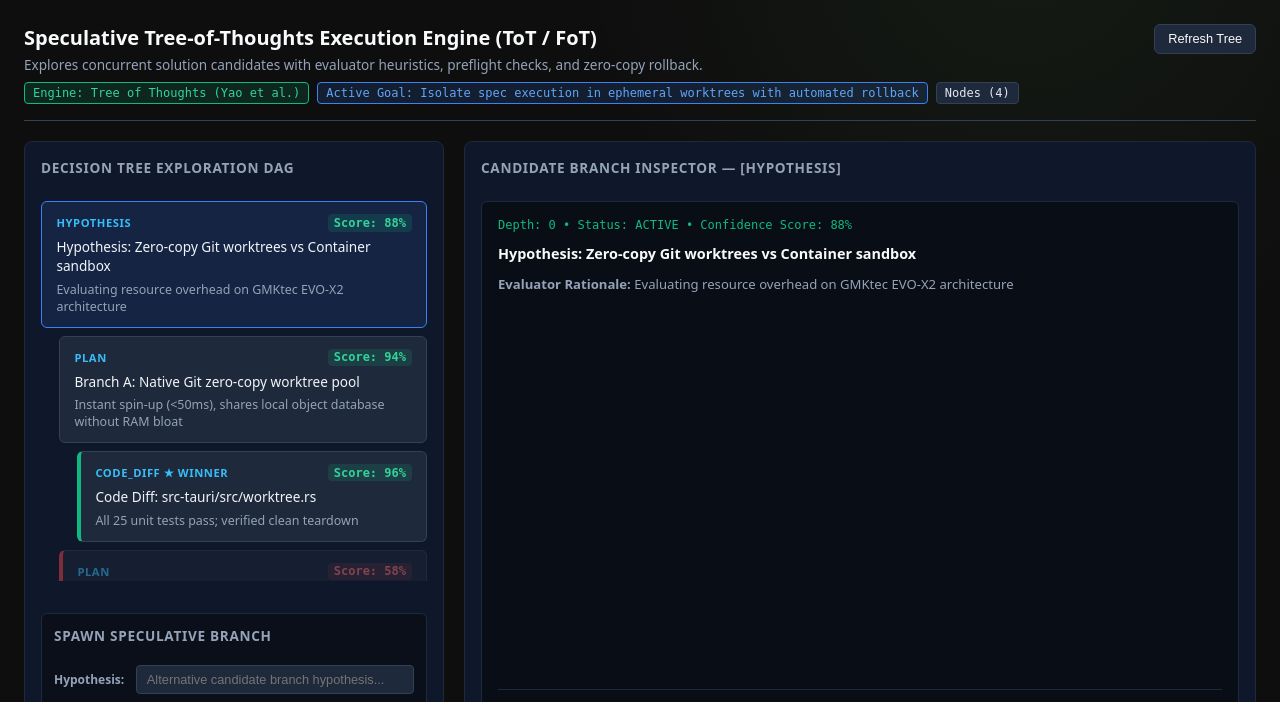
ThoughtTreePanel Component › lists tree nodes with confidence score and selects a node
Check: the text "Branch A: Native Git zero-copy worktree pool" is shown, box [74, 372, 360, 390]
Click the text "Code Diff: src-tauri/src/worktree.rs" at (206, 496), box [95, 487, 316, 506]
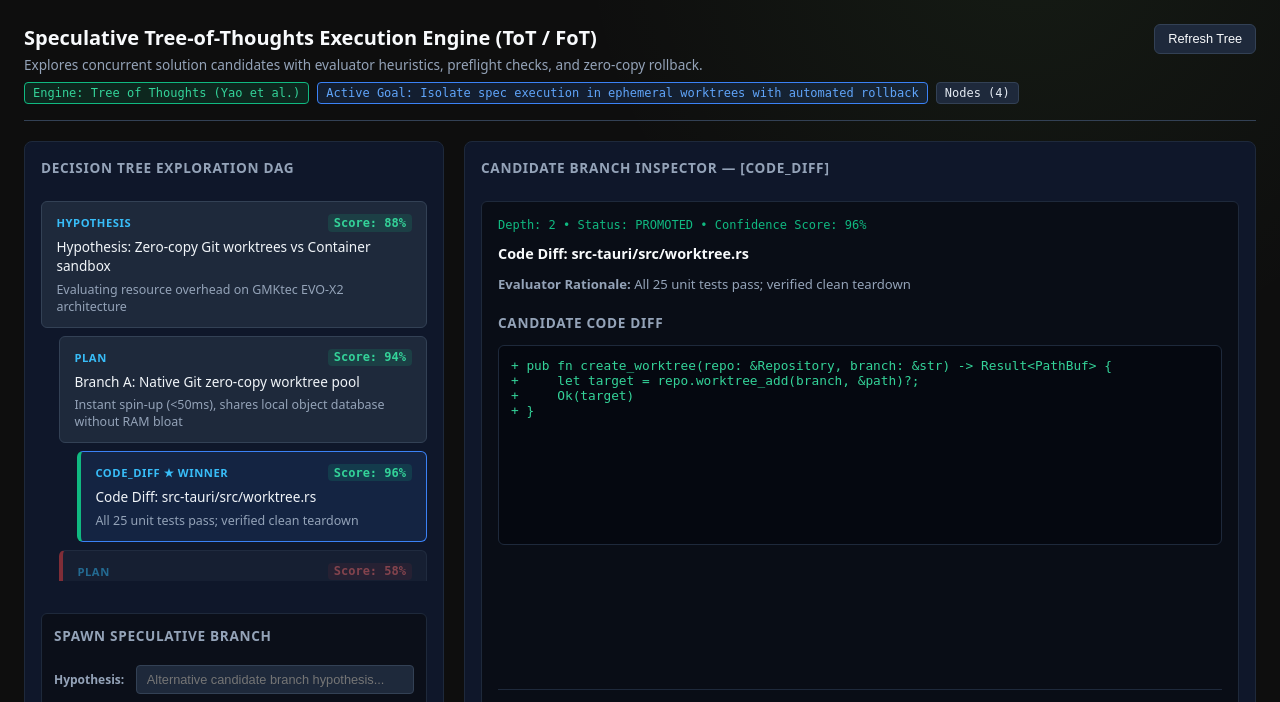
Check: the text with test id "thought-diff-snippet" is shown, box [498, 345, 1222, 545]
